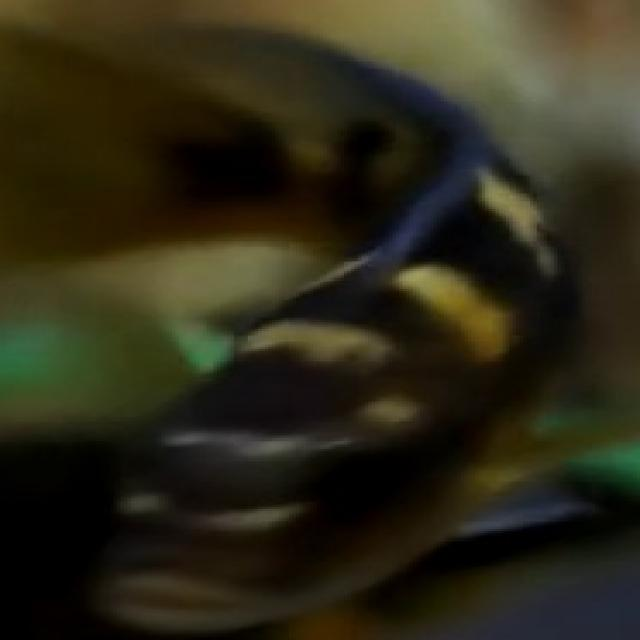fish: (0, 2, 637, 640)
